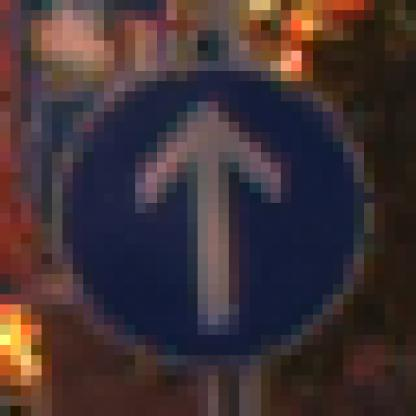AheadOnly: (63, 52, 365, 366)
